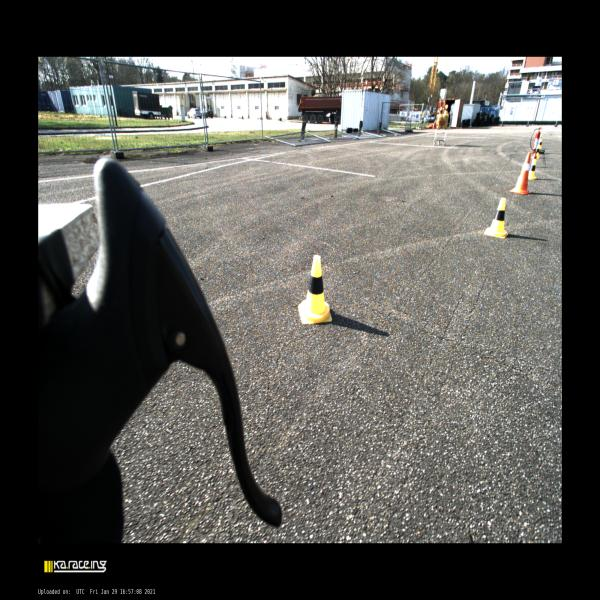large_orange_cone: (510, 152, 531, 194)
orange_cone: (434, 119, 436, 124)
yellow_cone: (298, 255, 332, 324), (484, 198, 508, 238), (529, 159, 536, 180), (537, 134, 542, 149), (535, 144, 540, 158), (438, 106, 443, 116), (444, 104, 448, 114)
